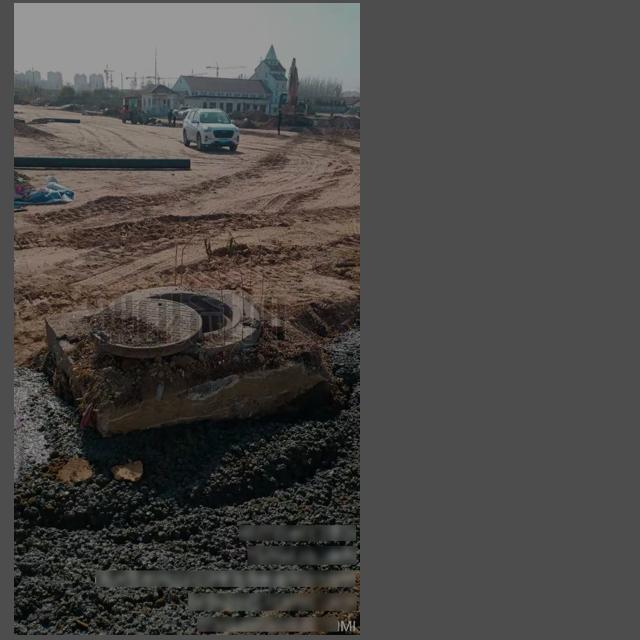uncovered: (90, 285, 262, 359)
